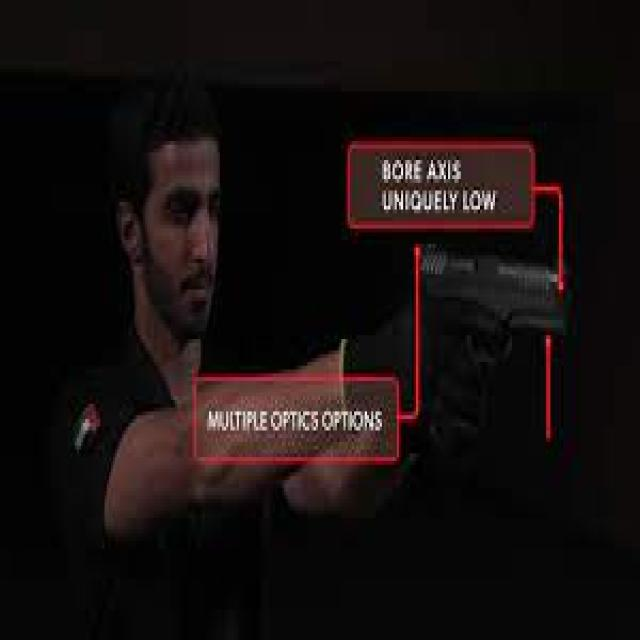Gun: (395, 200, 574, 401)
